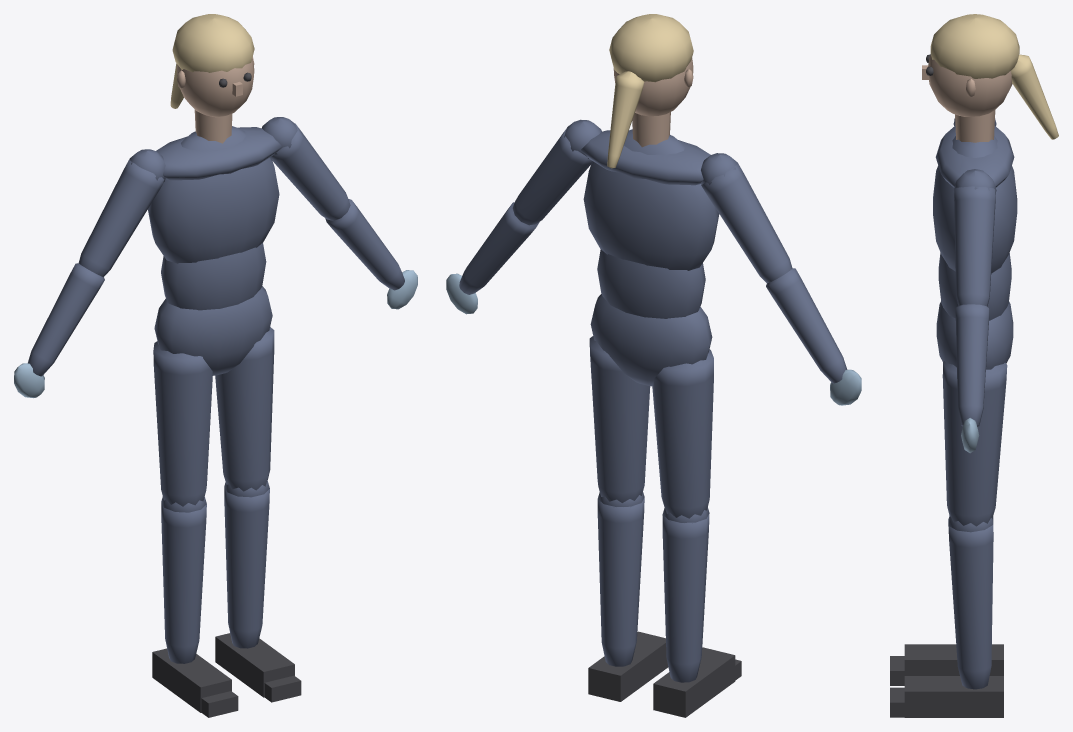
The model's file is Lind.glb.
3 renders of one model, left to right at view 1: azimuth 30°, elevation 25°; view 2: azimuth 150°, elevation 25°; view 3: azimuth 270°, elevation 25°, orthographic. The views are drawn at different scales.
Parts seen in each view (by area): view 1: Lind; view 2: Lind; view 3: Lind.
Boxes of the visible parts, x1,y1,x2,y2 form: Lind: (14,14,417,717); Lind: (446,14,861,717); Lind: (890,14,1058,717).
Bounding box in the file's own units: 1.11 × 1.73 × 0.3909.
